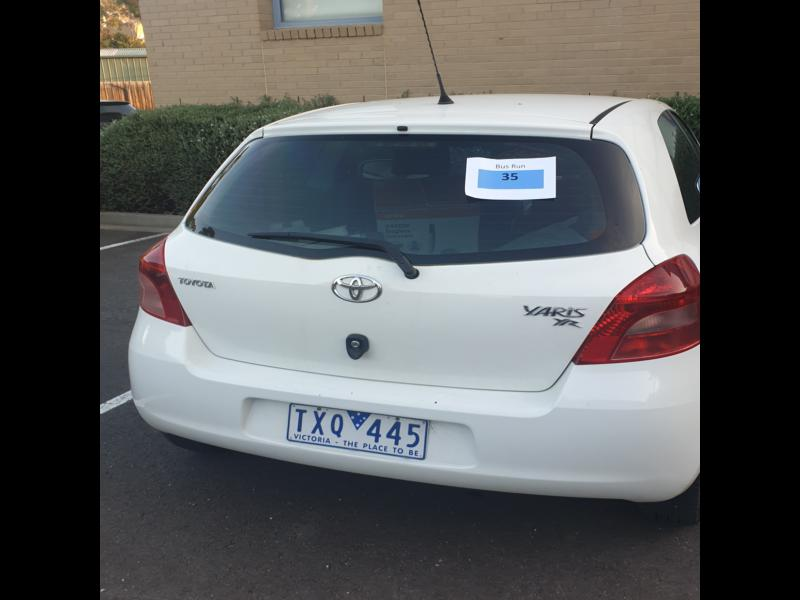BusRun: (476, 168, 544, 189)
PlateNo: (286, 401, 428, 463)
